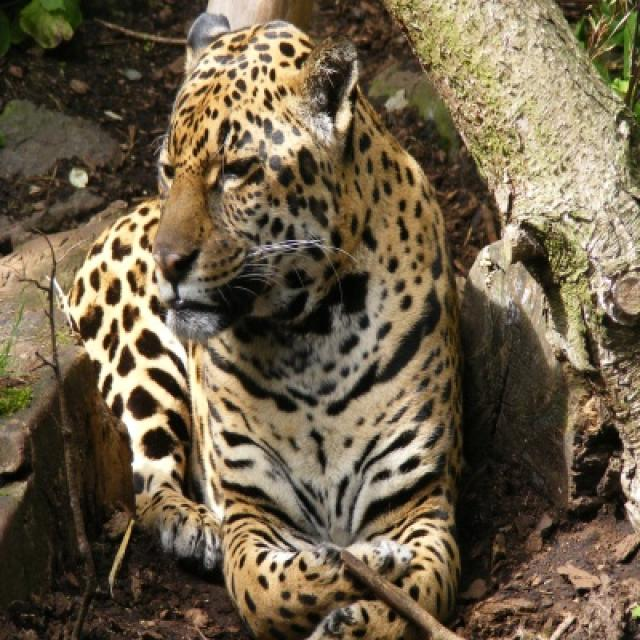Jaguar: (62, 14, 464, 638)
